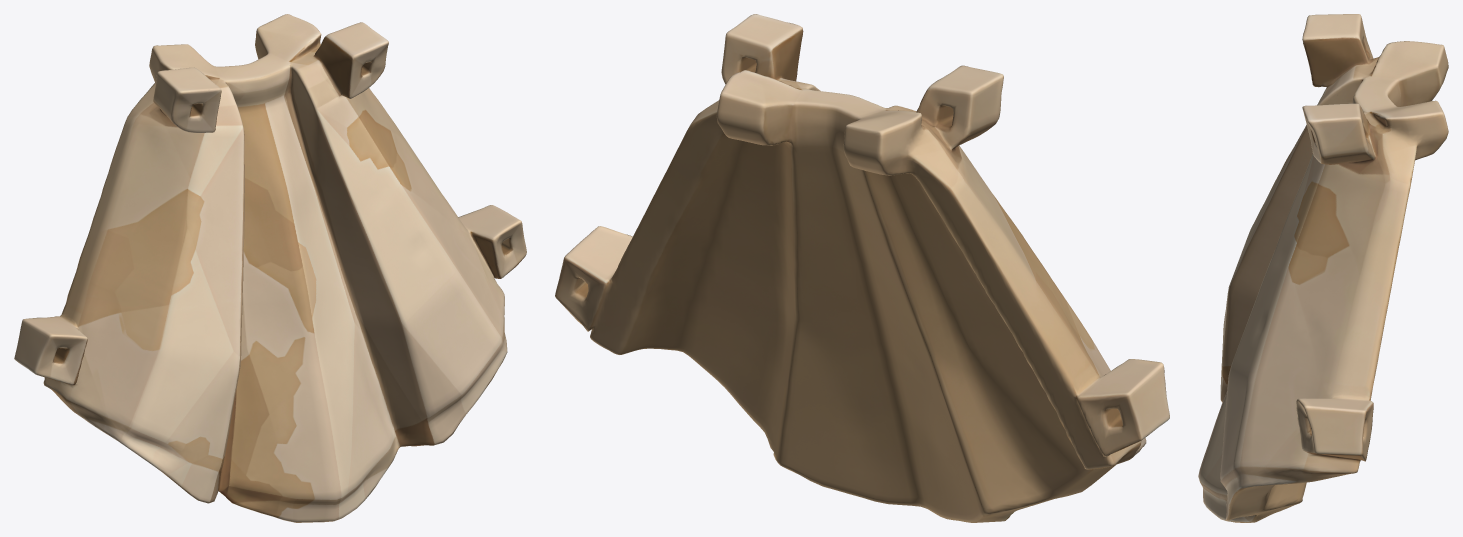
Rendered from tripo_convert_fe795272-ee1a-4a38-a6b3-2f36d2a34833.fbx.
The picture shows the model from 3 angles, left to right: view 1: azimuth 30°, elevation 25°; view 2: azimuth 150°, elevation 25°; view 3: azimuth 270°, elevation 25°; orthographic projection. The views are drawn at different scales.
Parts seen in each view (by area): view 1: tripo_node_fe795272; view 2: tripo_node_fe795272; view 3: tripo_node_fe795272.
Part boxes in pixels (x1,y1,x2,y2): tripo_node_fe795272: (14, 14, 526, 522); tripo_node_fe795272: (555, 14, 1169, 522); tripo_node_fe795272: (1198, 14, 1448, 522).
Size of the model in its own units: 97.73 by 41.27 by 79.8.
Materials: 1 (1 with a texture image).
